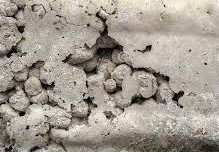Spalling: (1, 1, 185, 152)
